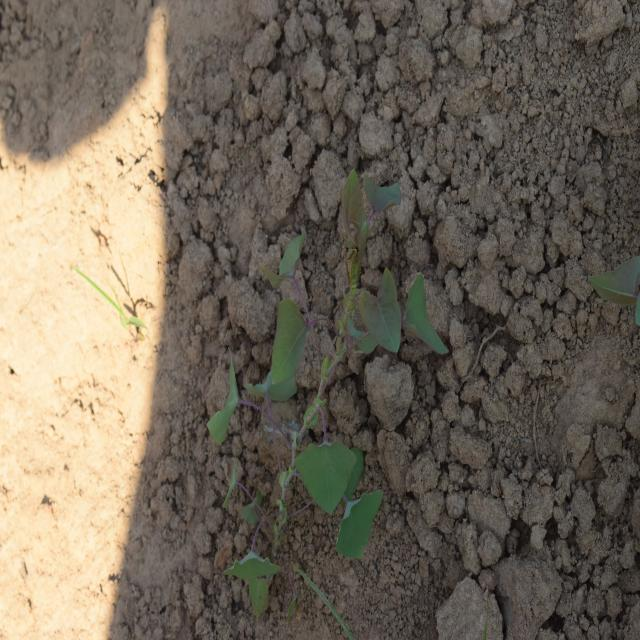Asiatic_Smartweed: (254, 169, 439, 388), (280, 432, 382, 556)
